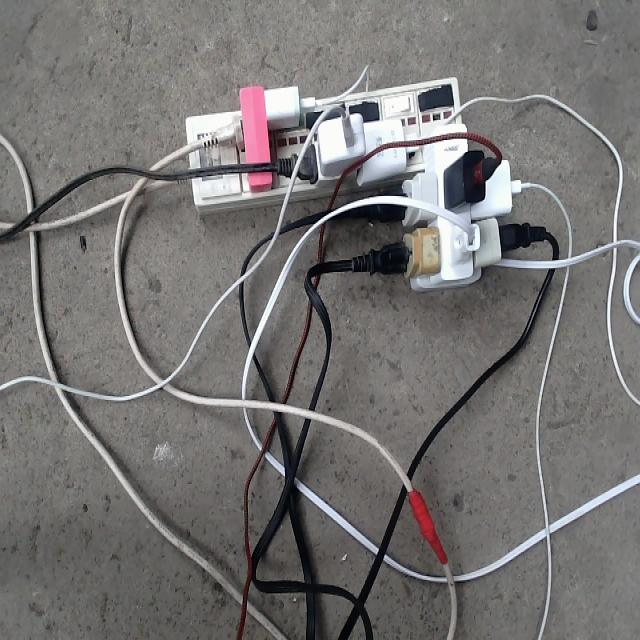-: (185, 75, 550, 292)
